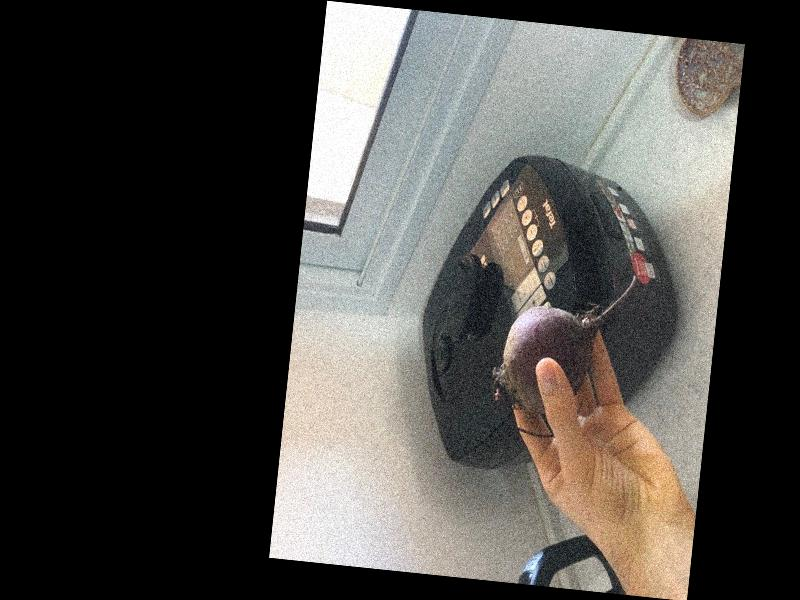Beet: (486, 262, 638, 443)
